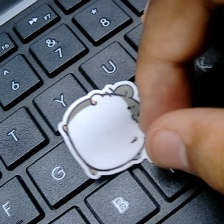mouse: (57, 77, 174, 182)
